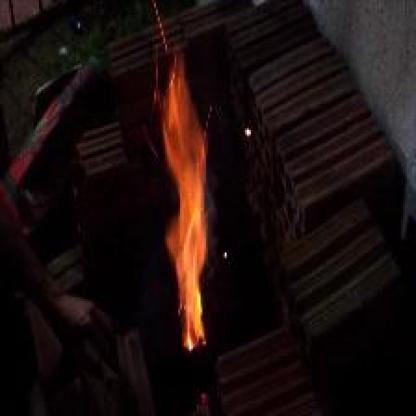fire: (151, 67, 234, 345)
